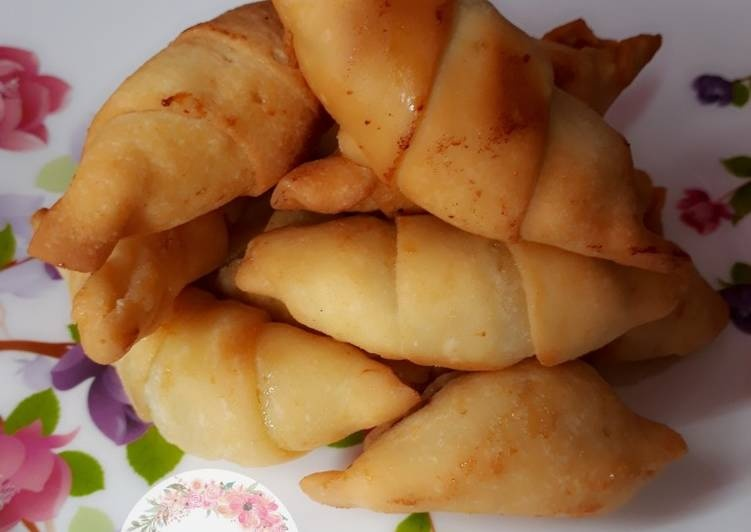pisang_molen: (235, 214, 688, 373)
